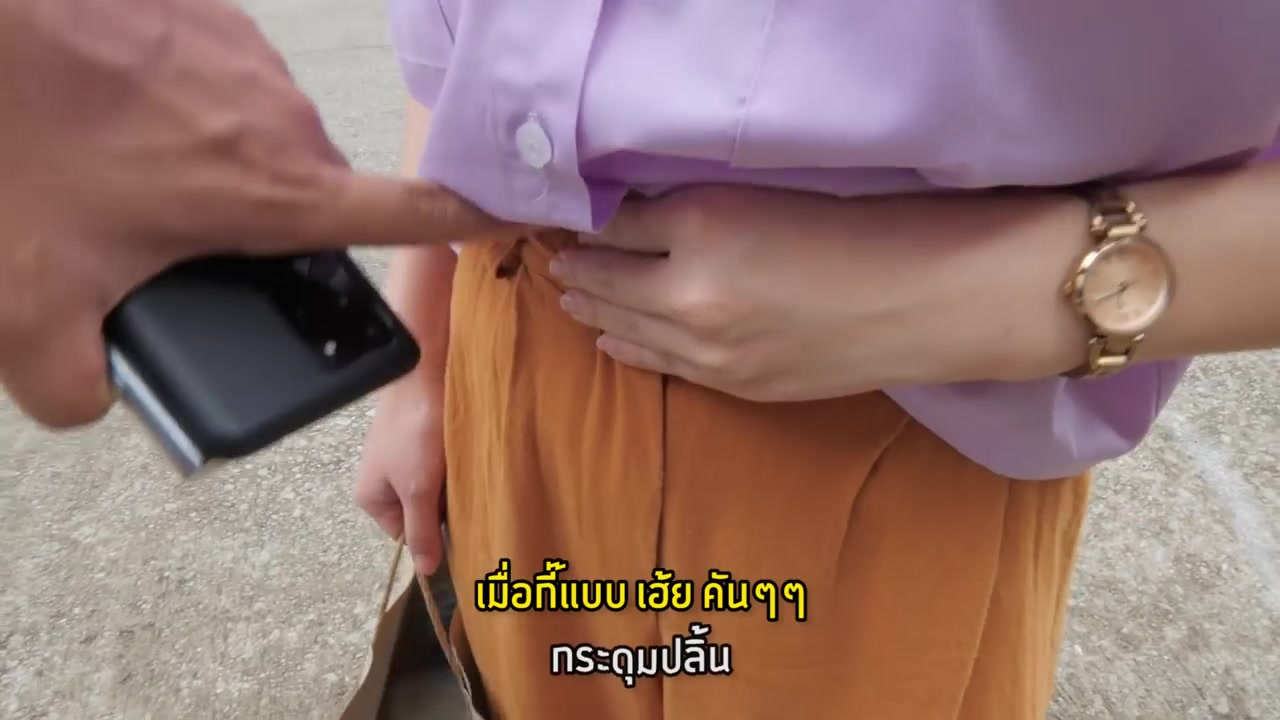text-label: (471, 556, 810, 625), (548, 623, 739, 687)
